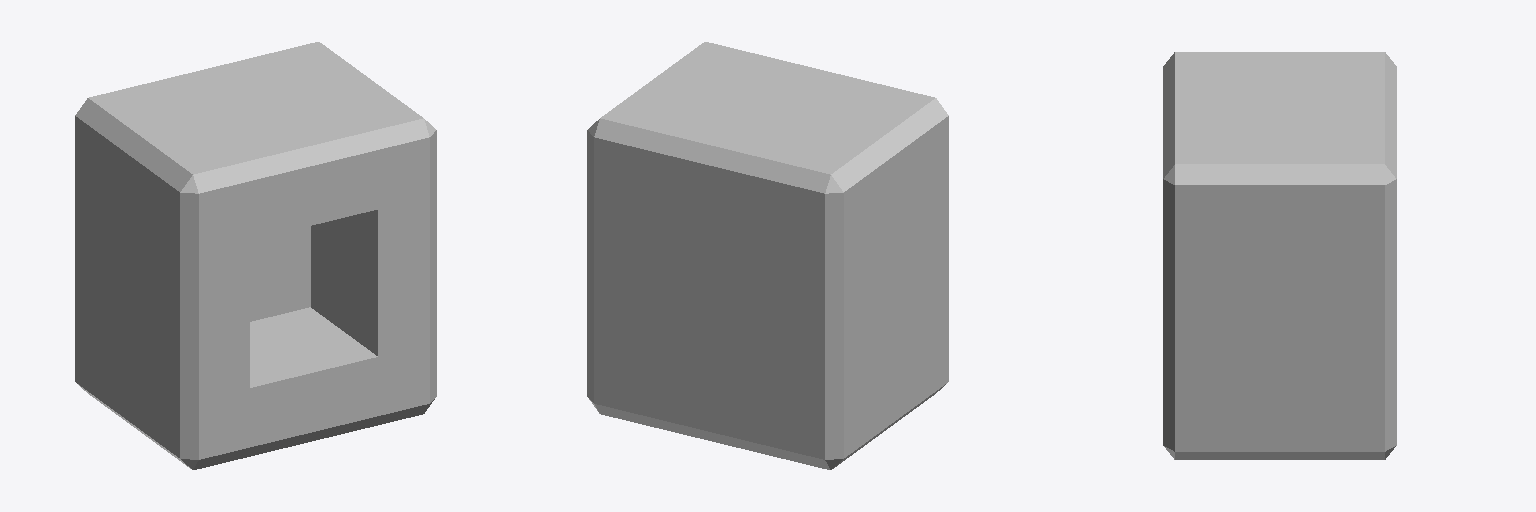
File: Square Rock.obj
3 renders of one model, left to right at view 1: azimuth 30°, elevation 25°; view 2: azimuth 150°, elevation 25°; view 3: azimuth 270°, elevation 25°, orthographic.
Parts seen in each view (by area): view 1: Cube.001; view 2: Cube.001; view 3: Cube.001.
Part boxes in pixels (bbox=[...]): Cube.001: bbox=[75, 42, 436, 469]; Cube.001: bbox=[587, 42, 948, 469]; Cube.001: bbox=[1163, 52, 1396, 459].
Bounding box in the file's own units: 1.83 × 2.02 × 1.44.